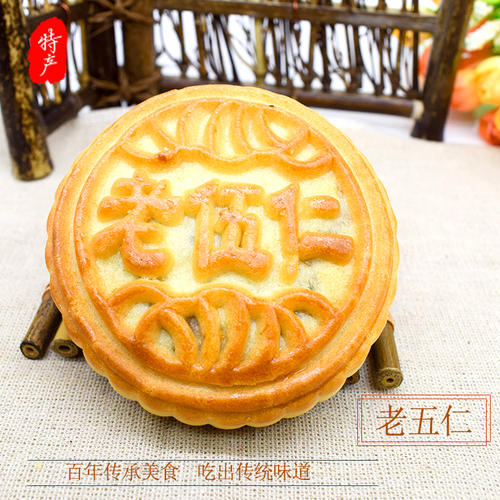MoonCake: (45, 85, 399, 433)
